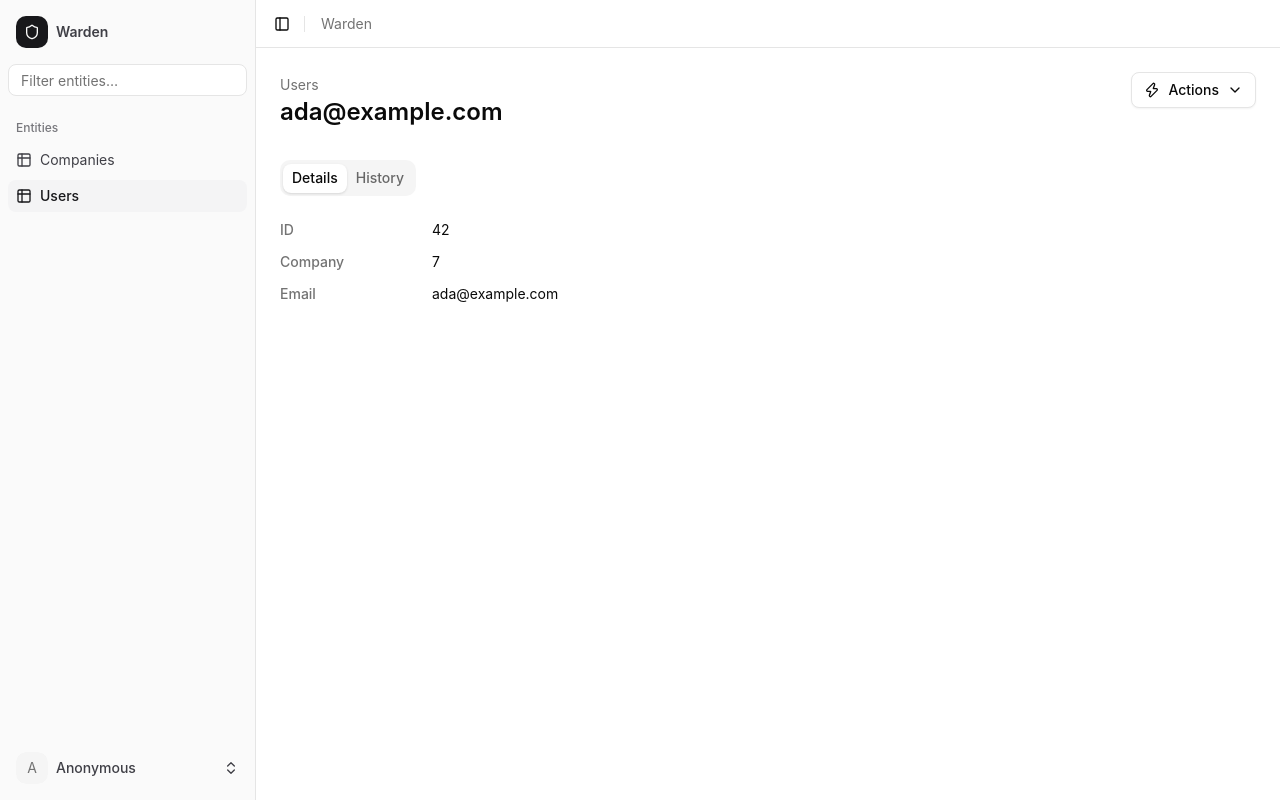
Test: actions on the record page › asks to preview again when the data changed since the preview
What coordinates should you click on to do the following:
click the button "Actions"
I would click on:
 (1194, 90)
Its box is [1131,72,1256,108].
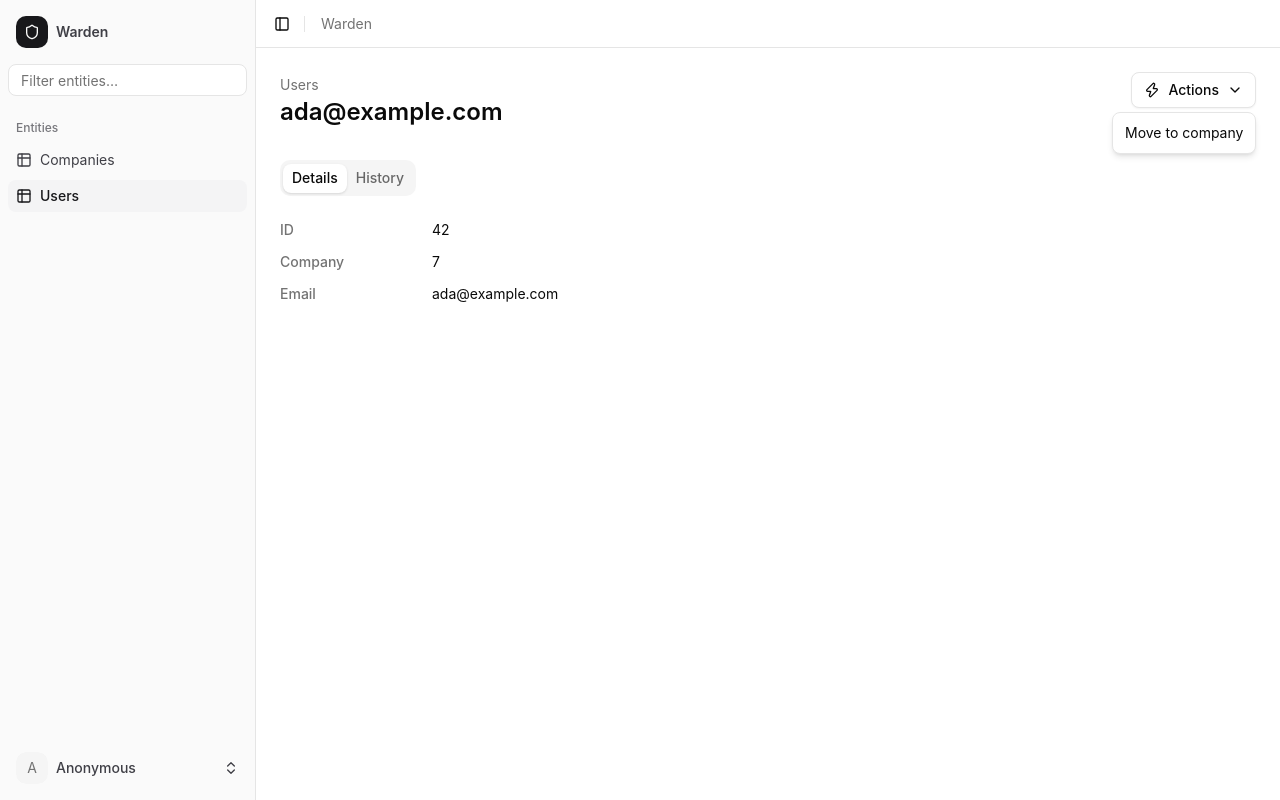
What coordinates should you click on to do the following:
click the menu item "Move to company"
I would click on:
 (1184, 132)
Its box is [1125,124,1243,141].
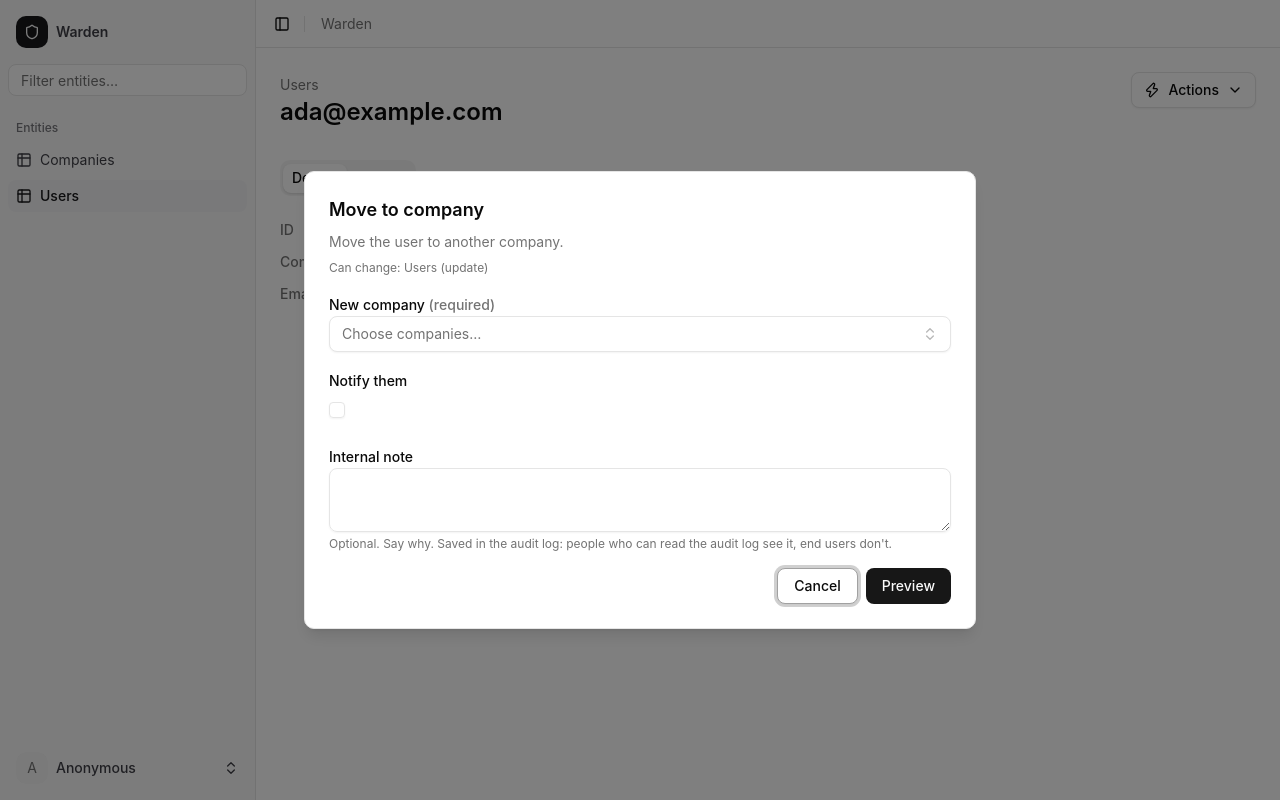
What coordinates should you click on to do the following:
click the dropdown named "New company"
I would click on:
 (412, 334)
Its box is [329,316,951,352].
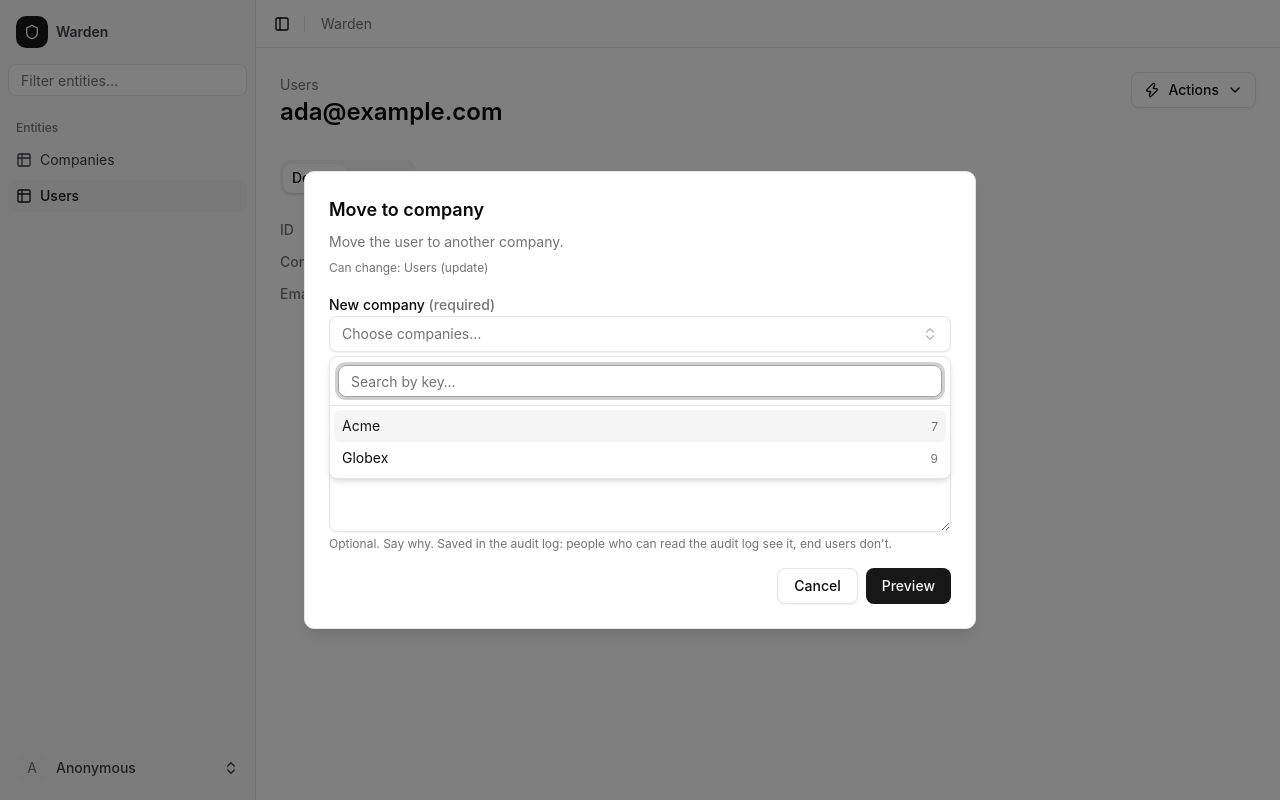
What coordinates should you click on to do the following:
click the option "Globex 9"
I would click on:
 (365, 458)
Its box is [342,449,938,466].
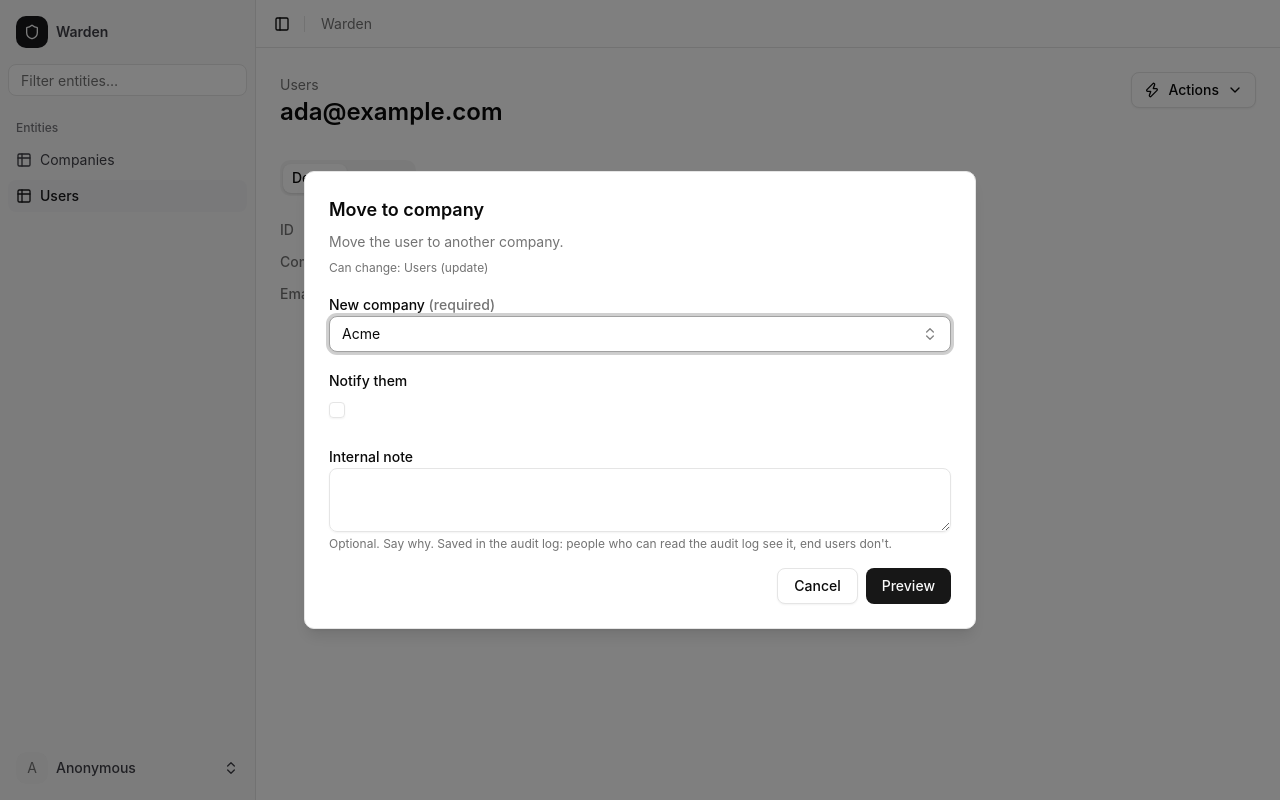
What coordinates should you click on to do the following:
click the button "Preview"
I would click on:
 (908, 586)
Its box is [866,568,951,604].
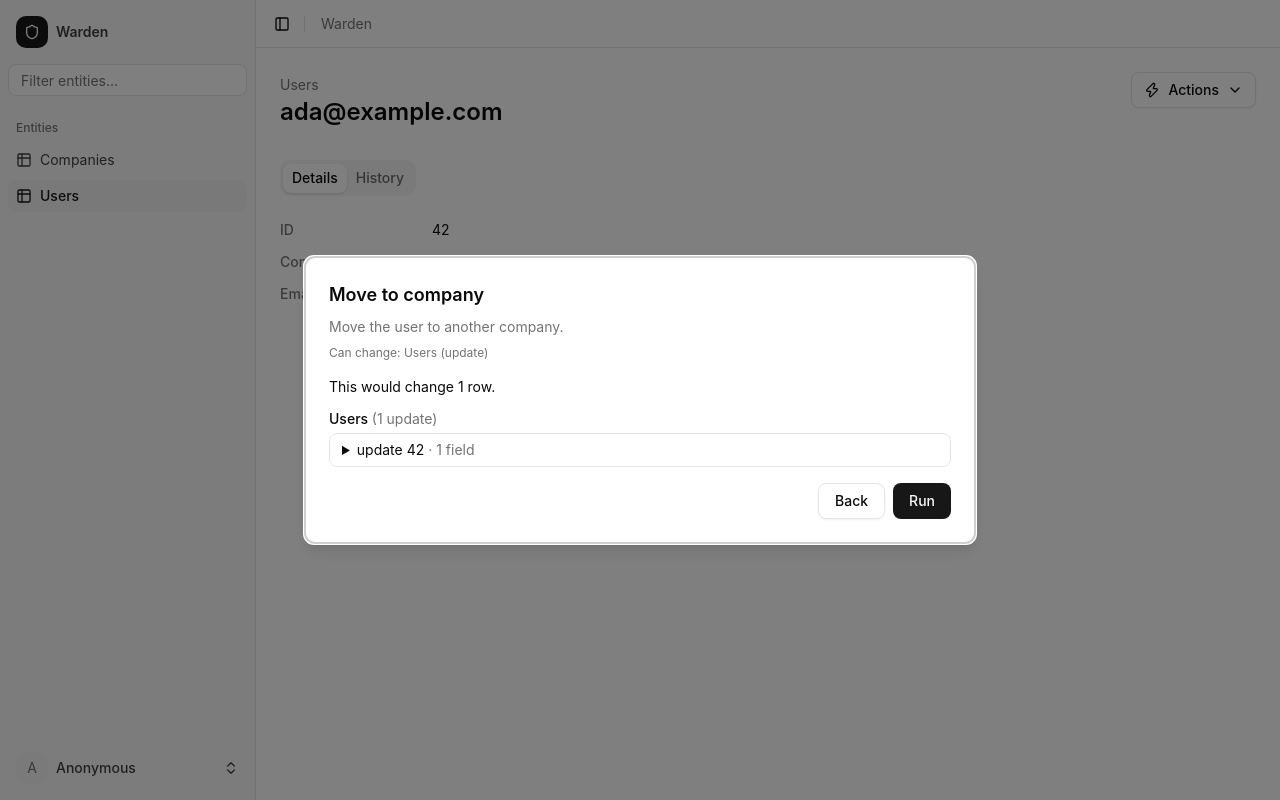
What coordinates should you click on to do the following:
click the button "Run"
I would click on:
 (922, 501)
Its box is [893,483,951,519].
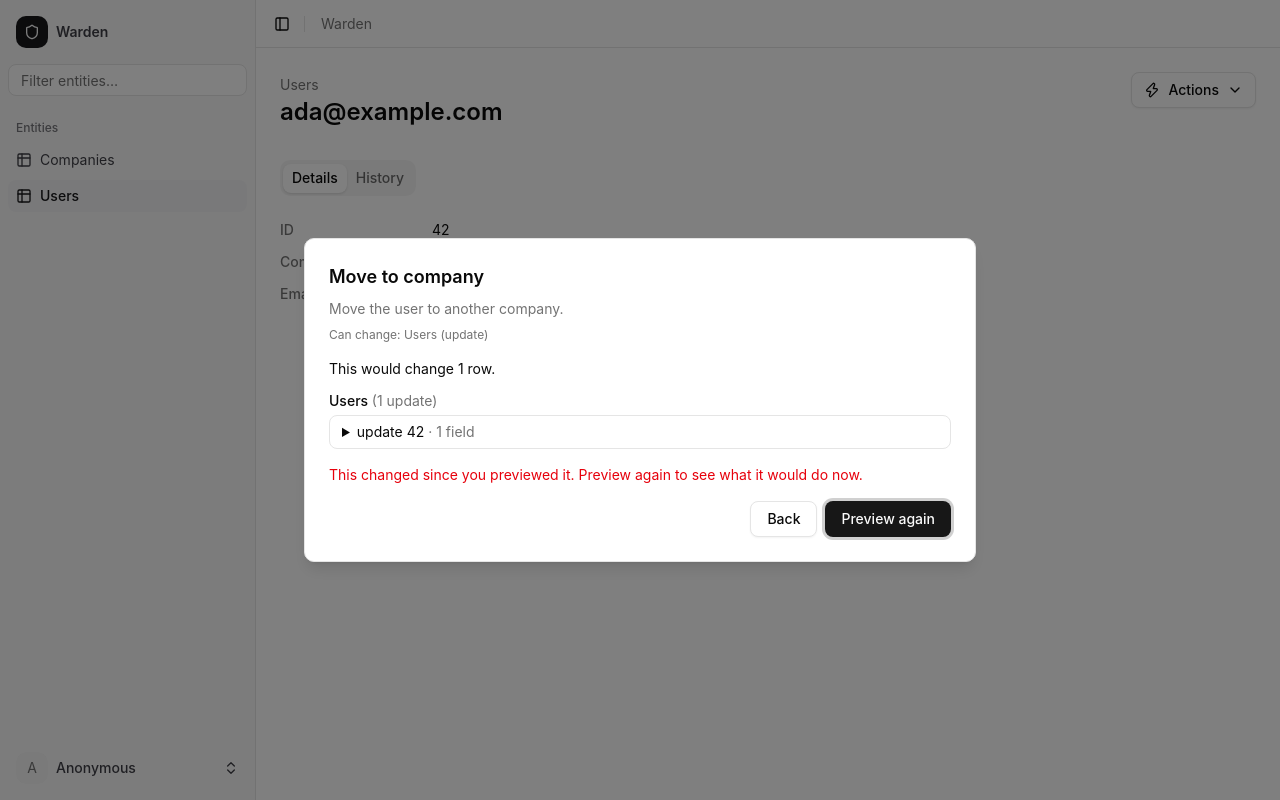
Check: the message shows "This changed since you previewed it", box [329,466,863,483]
Check: the button "Preview again" is shown, box [826,501,951,537]
